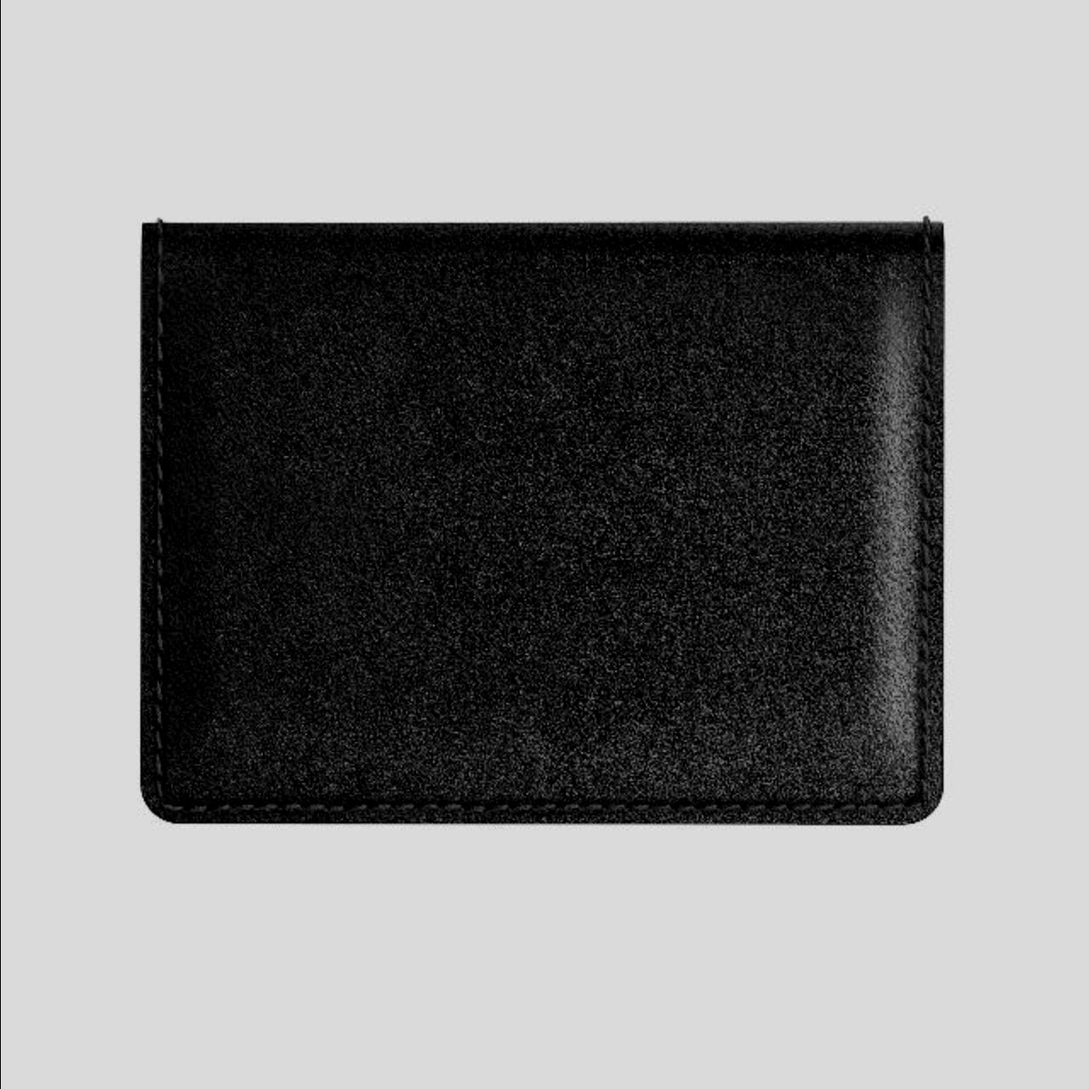wallet: (100, 185, 975, 861)
